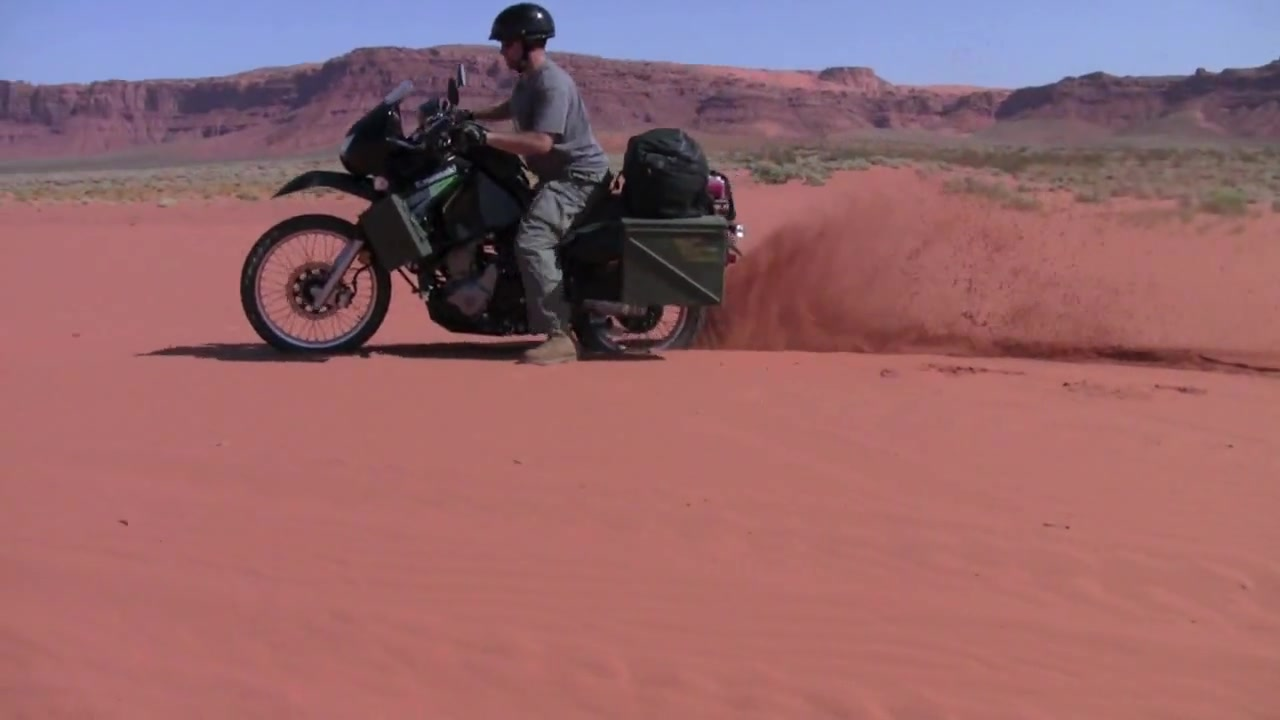motorbike: (236, 66, 743, 365)
